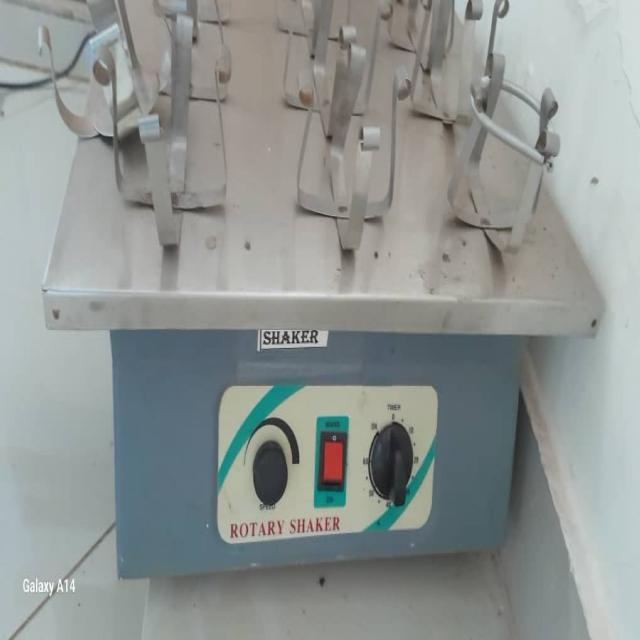Rotary Shaker: (39, 8, 608, 589)
